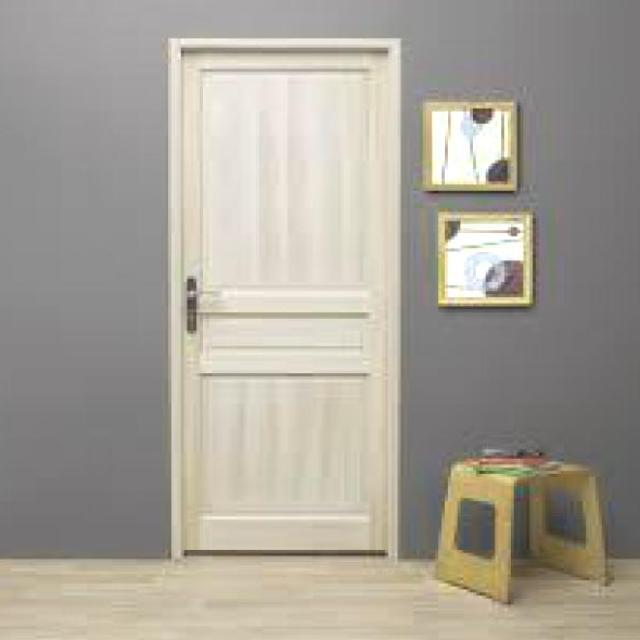door: (172, 38, 400, 559)
